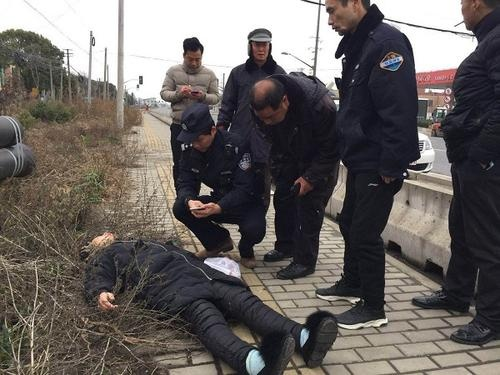falling: (88, 225, 343, 372)
